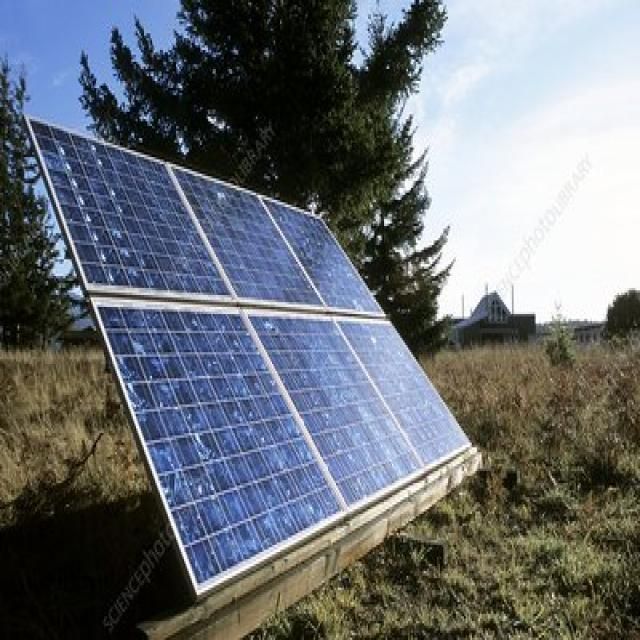dust-solar-panel: (29, 121, 469, 593)
